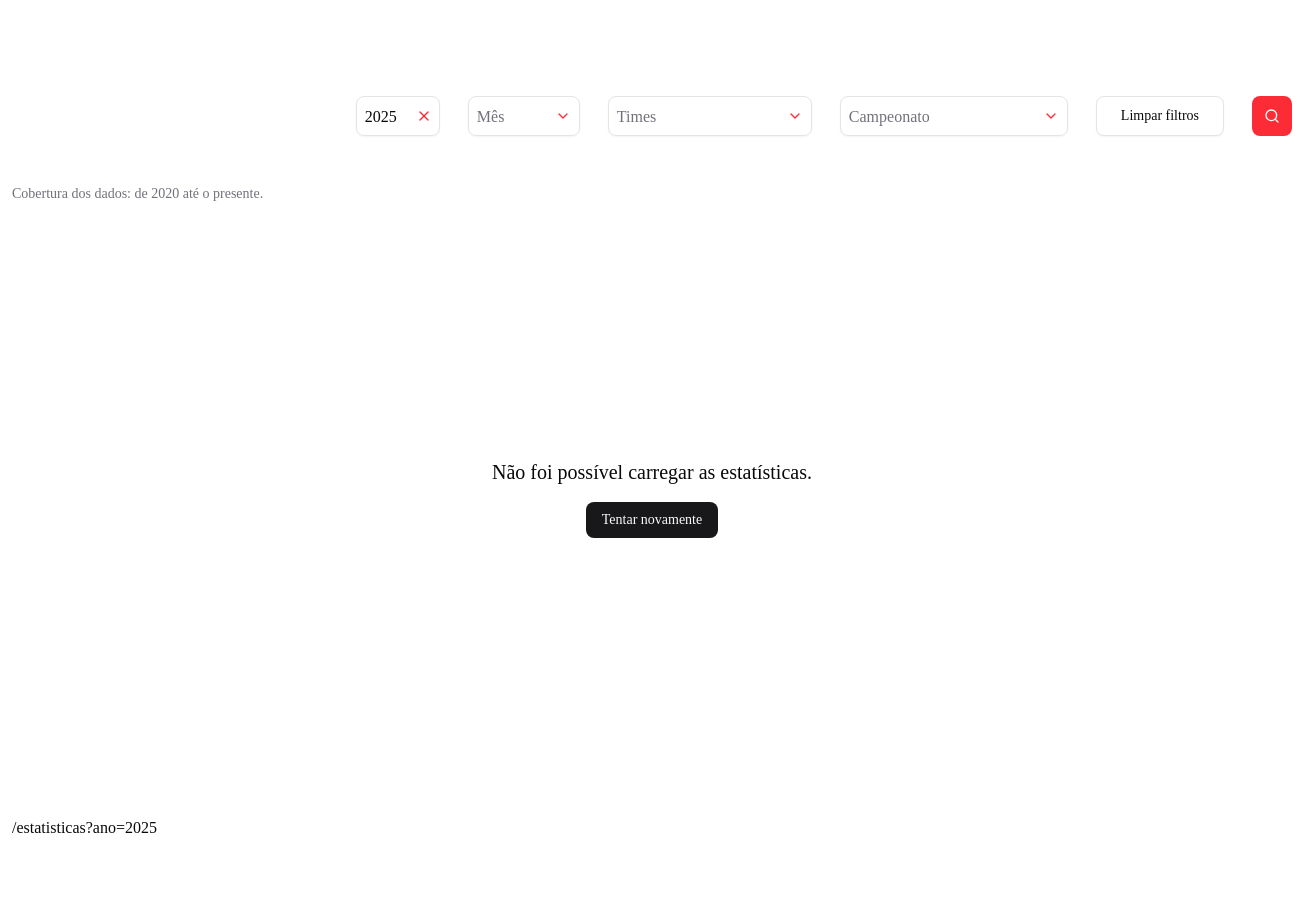
Test case: MatchStatistics › retries a failed Complete Performance Summary request
The width and height of the screenshot is (1304, 900).
Check: the text "Não foi possível carregar as estatísticas." is shown, box x1=492 y1=458 x2=812 y2=486
Click the button "Tentar novamente" at coordinates (652, 520), box x1=586 y1=502 x2=718 y2=538
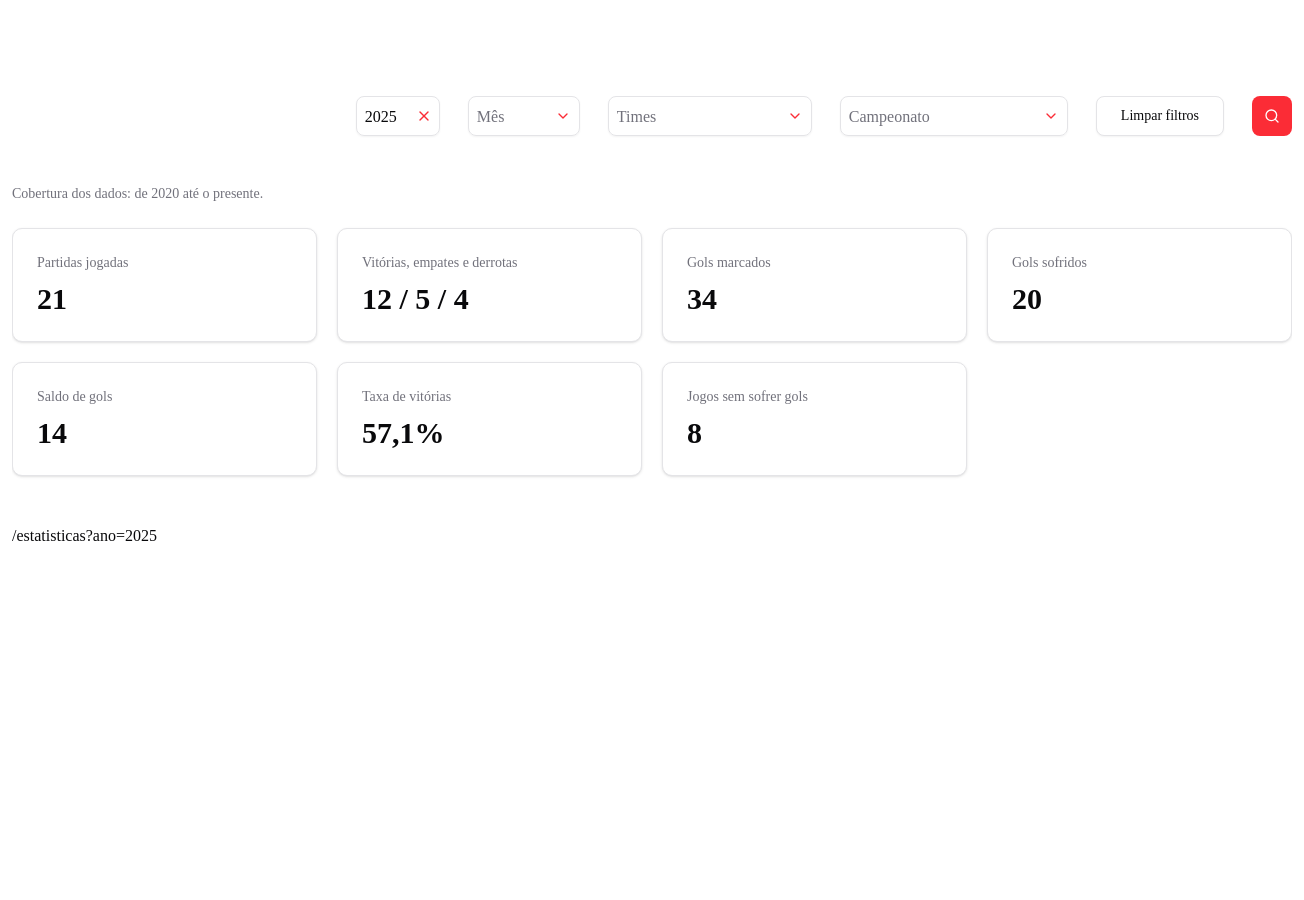
Check: the text "21" is shown, box x1=37 y1=282 x2=67 y2=315
